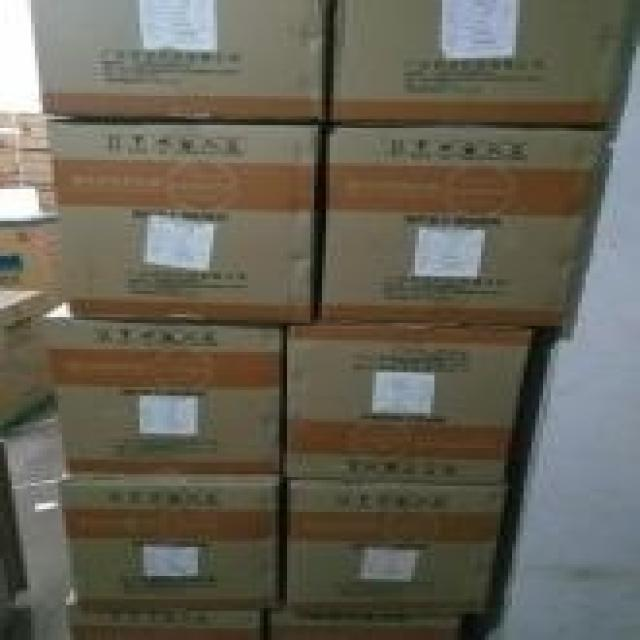box: (47, 119, 322, 326), (318, 128, 605, 326), (43, 300, 283, 474), (283, 326, 535, 483), (330, 0, 632, 125), (27, 0, 326, 119), (283, 480, 504, 614), (58, 474, 279, 608), (62, 591, 260, 640), (0, 186, 62, 305), (0, 291, 50, 431), (268, 611, 462, 640), (0, 442, 27, 611), (12, 113, 47, 148), (0, 605, 35, 640), (19, 148, 50, 186), (0, 148, 19, 183), (0, 113, 16, 148)
